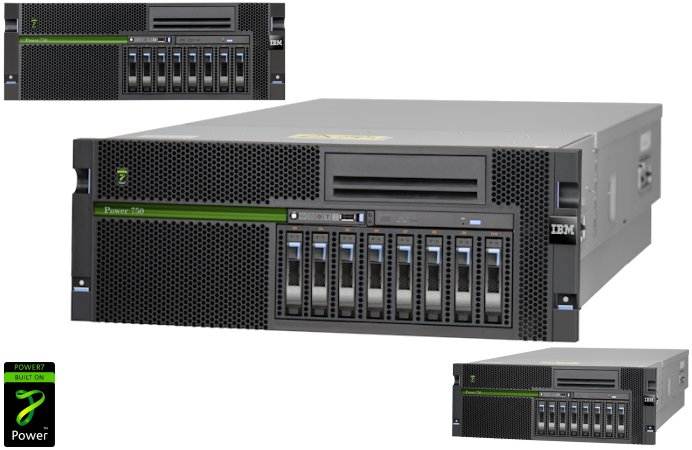ibm-server: (61, 130, 586, 344), (4, 1, 289, 102), (447, 345, 692, 449)
